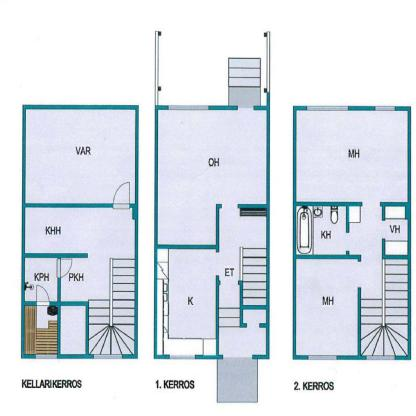door: (112, 184, 131, 214), (55, 257, 75, 281), (36, 284, 50, 306)
window: (306, 104, 346, 112), (169, 106, 208, 113), (168, 354, 196, 362), (92, 355, 121, 361), (308, 354, 336, 360), (375, 104, 395, 112), (222, 354, 251, 359), (366, 355, 394, 360), (239, 105, 254, 114), (37, 355, 55, 360)
zone: (158, 110, 264, 245), (296, 111, 406, 200), (28, 110, 134, 201), (157, 32, 266, 104), (297, 257, 359, 356), (158, 248, 214, 353), (24, 207, 135, 256), (356, 259, 407, 355), (218, 209, 266, 306), (89, 258, 135, 352), (348, 204, 404, 254), (297, 206, 345, 252), (219, 307, 266, 353), (61, 260, 108, 300), (218, 358, 257, 401), (24, 306, 57, 352), (23, 257, 57, 300), (61, 308, 86, 352)
